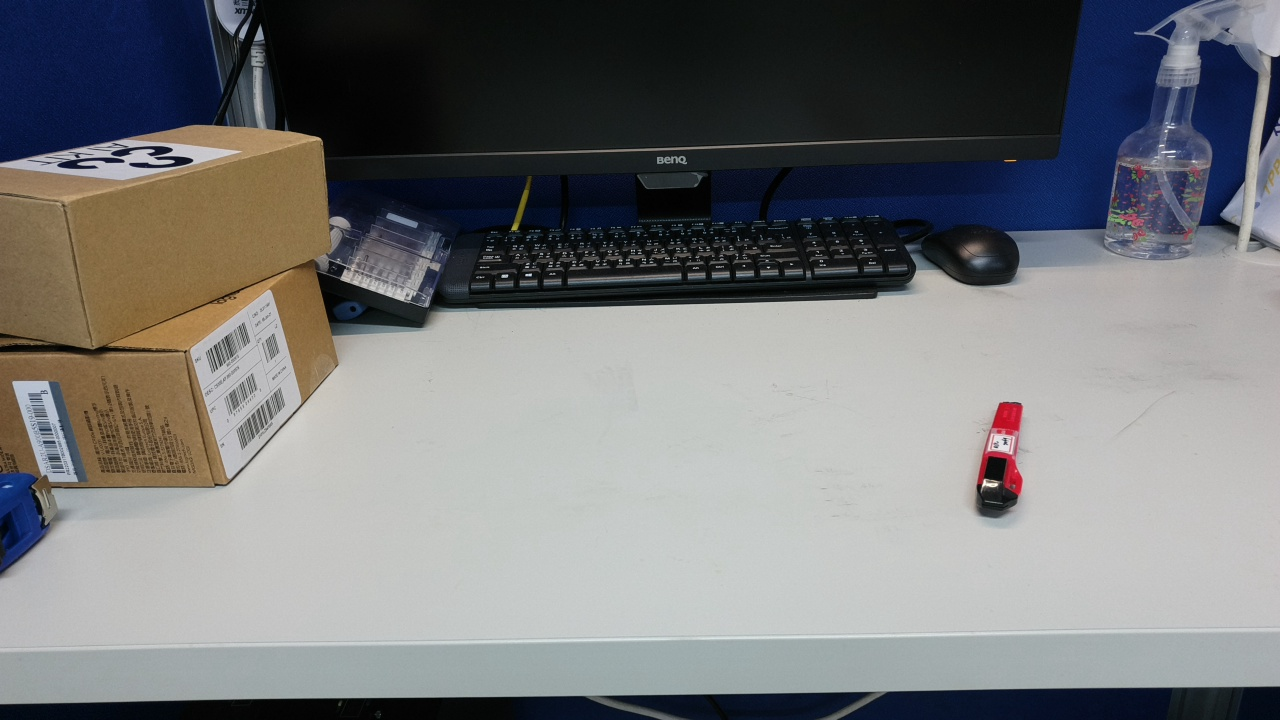columnar: (742, 148, 938, 457)
